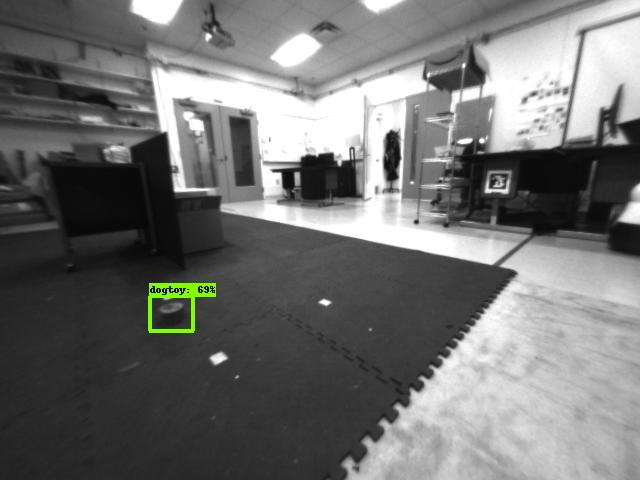dogtoy: (149, 299, 191, 328)
